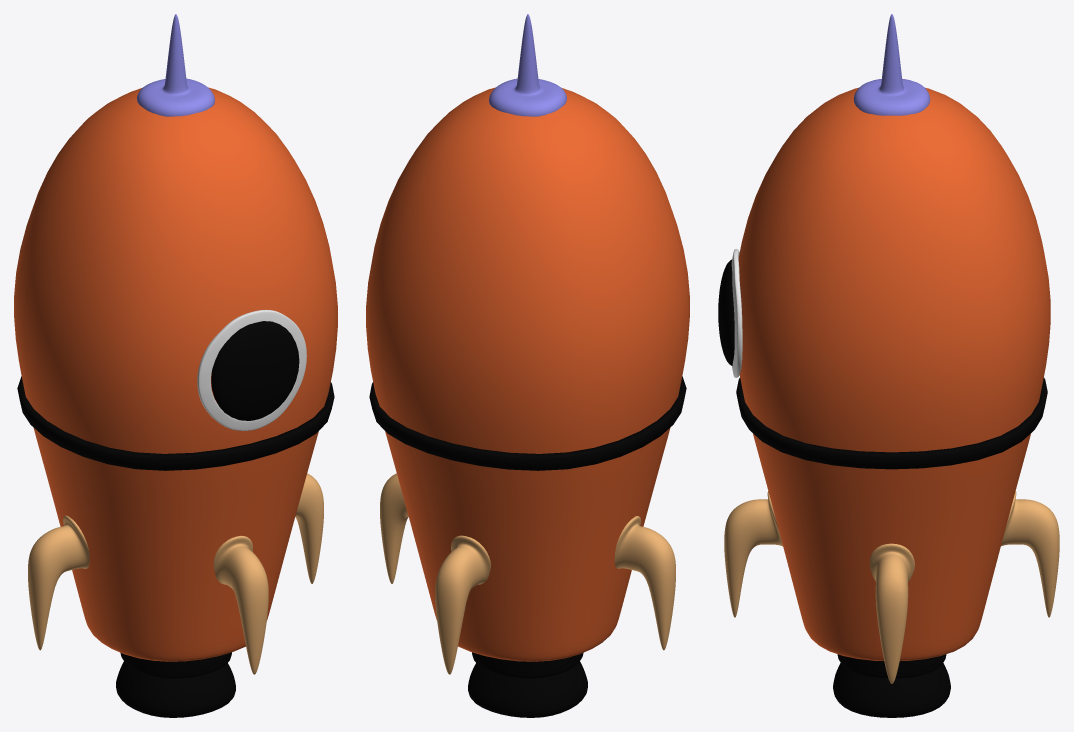
Rendered from 火箭text.fbx.
The picture shows the model from 3 angles, left to right: view 1: azimuth 30°, elevation 25°; view 2: azimuth 150°, elevation 25°; view 3: azimuth 270°, elevation 25°; orthographic projection.
Parts seen in each view (by area): view 1: 身体, 球体, 圆环.001, 立方体.003, 立方体.002, 圆环, 头, 立方体; view 2: 身体, 圆环.001, 立方体.001, 立方体.002, 头, 立方体; view 3: 身体, 圆环.001, 立方体, 立方体.003, 立方体.001, 头, 球体, 圆环.
Boxes of the visible parts, box(x1,y1,x2,y2) form: 身体: box(14, 87, 337, 717); 球体: box(211, 321, 299, 420); 圆环.001: box(17, 376, 334, 470); 立方体.003: box(213, 535, 268, 674); 立方体.002: box(28, 515, 89, 650); 圆环: box(197, 309, 306, 430); 头: box(137, 14, 214, 116); 立方体: box(295, 473, 323, 583); 身体: box(366, 87, 689, 717); 圆环.001: box(369, 376, 686, 470); 立方体.001: box(435, 535, 490, 674); 立方体.002: box(614, 516, 675, 650); 头: box(489, 14, 566, 116); 立方体: box(380, 473, 408, 583); 身体: box(738, 87, 1050, 717); 圆环.001: box(736, 377, 1047, 469); 立方体: box(869, 543, 914, 683); 立方体.003: box(724, 491, 782, 617); 立方体.001: box(1001, 491, 1059, 617); 头: box(853, 14, 930, 115); 球体: box(718, 259, 734, 365); 圆环: box(731, 249, 742, 377).
Size of the model in its own units: 256 by 574 by 260.
